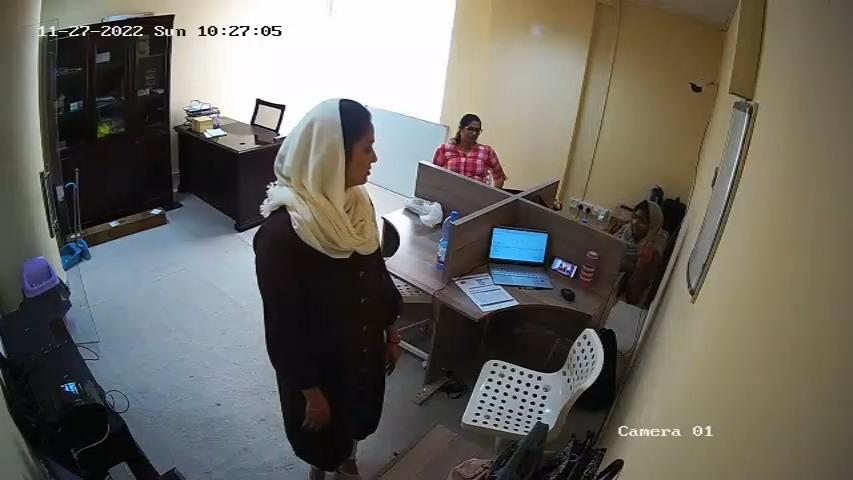no_apron: (278, 213, 383, 363)
